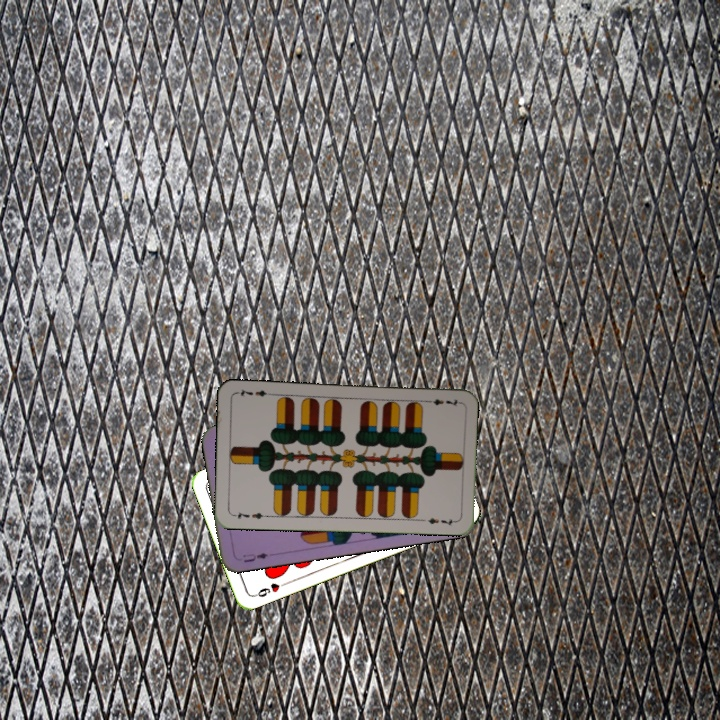E7: (229, 508, 270, 522), (421, 395, 462, 409)
EU: (239, 549, 270, 565)
H9: (250, 578, 289, 600)
